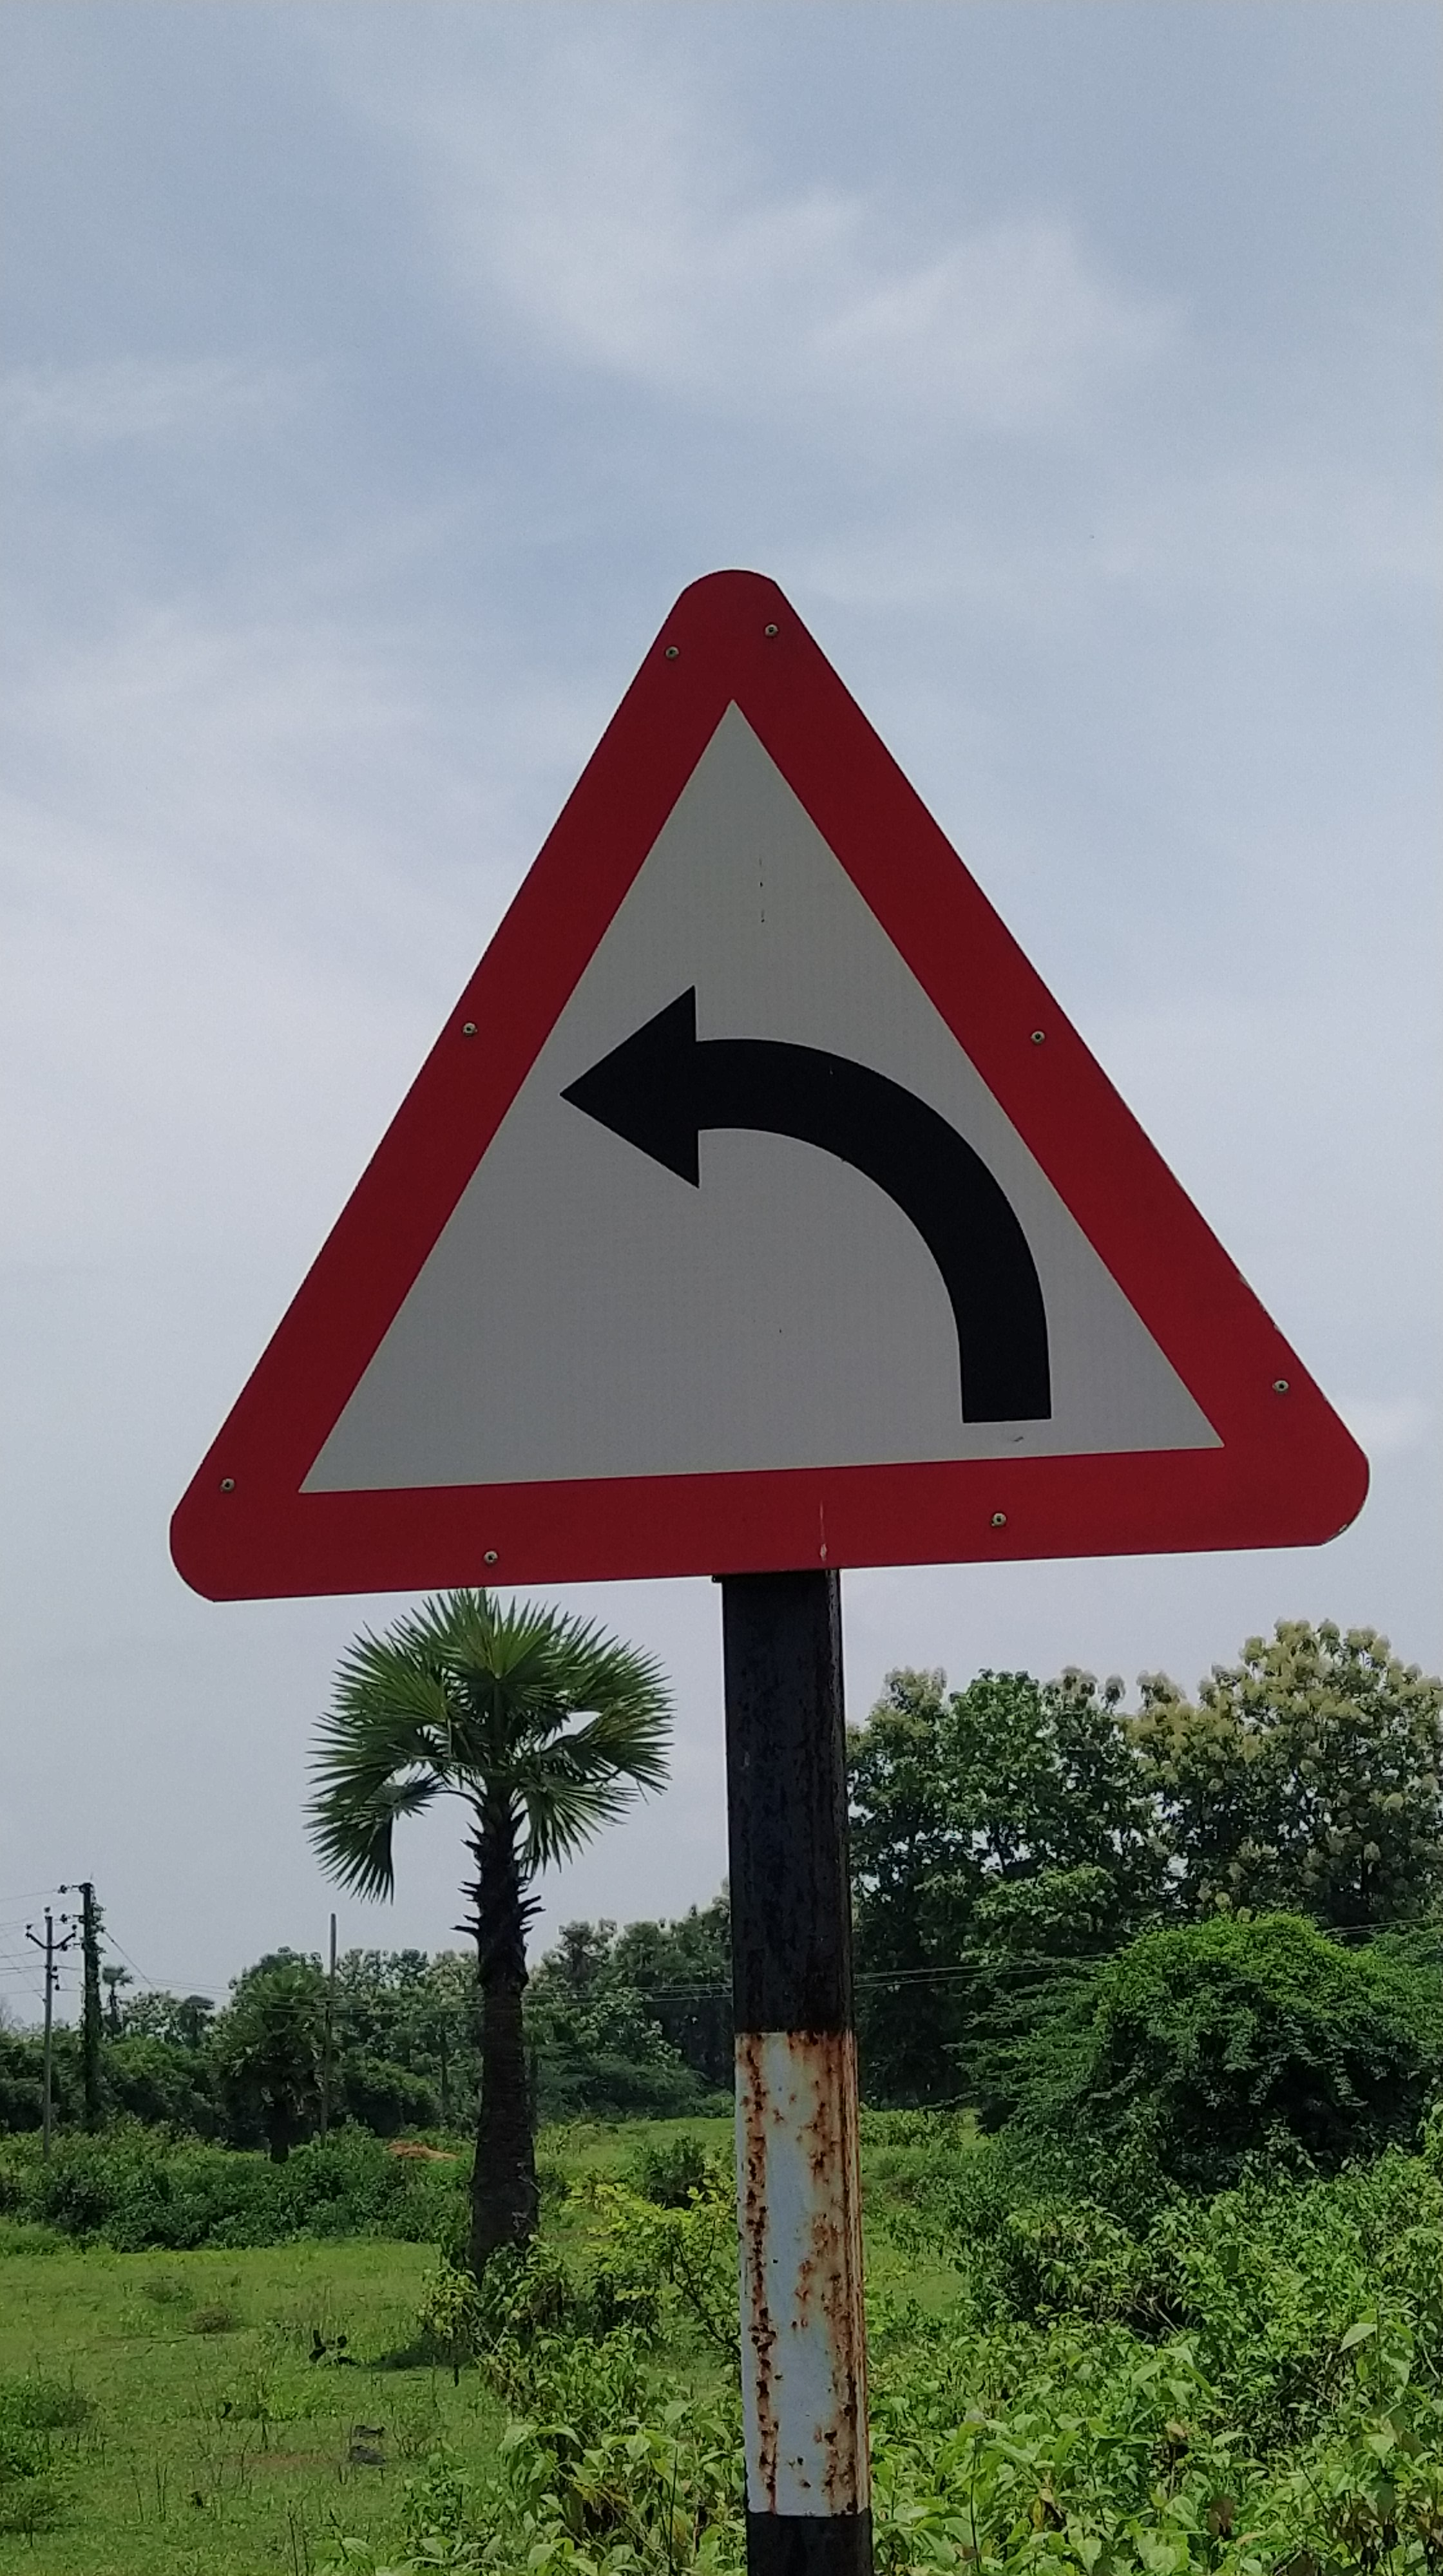Turn left: (103, 510, 1408, 1700)
